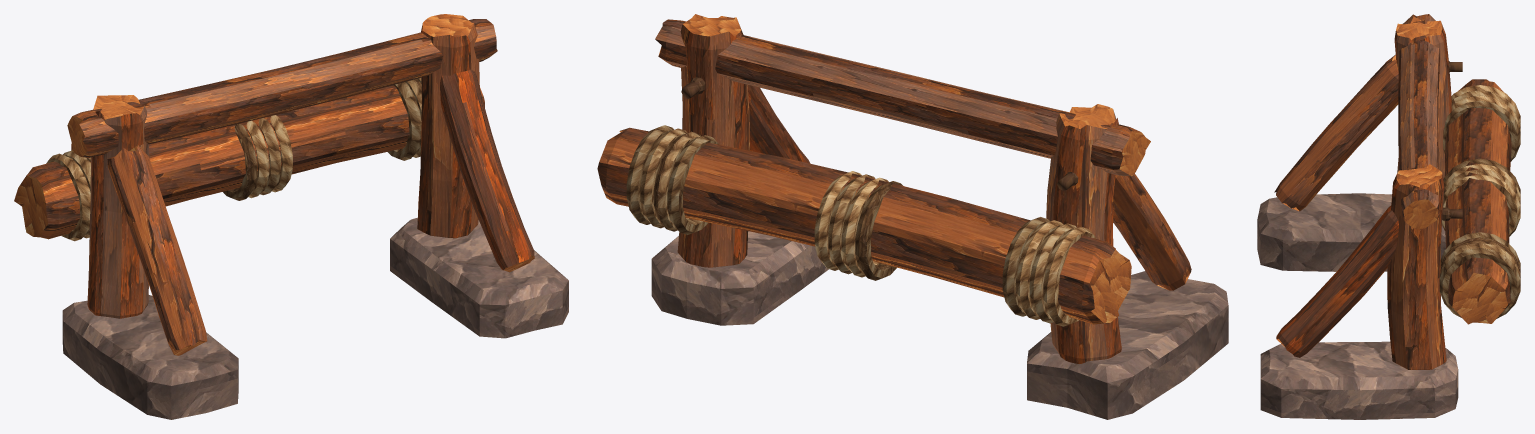
Rendered from rail_buffer.glb.
The picture shows the model from 3 angles, left to right: view 1: azimuth 30°, elevation 25°; view 2: azimuth 150°, elevation 25°; view 3: azimuth 270°, elevation 25°; orthographic projection. The views are drawn at different scales.
Parts seen in each view (by area): view 1: frame, bumper; view 2: frame, bumper; view 3: frame, bumper.
Boxes of the visible parts, x1,y1,x2,y2 form: frame: [62, 14, 568, 419]; bumper: [14, 78, 484, 241]; frame: [651, 14, 1228, 419]; bumper: [597, 125, 1131, 326]; frame: [1257, 14, 1462, 419]; bumper: [1439, 79, 1520, 324].
Size of the model in its own units: 1.34 by 0.7141 by 0.7551.
Materials: 20 (20 with a texture image).
